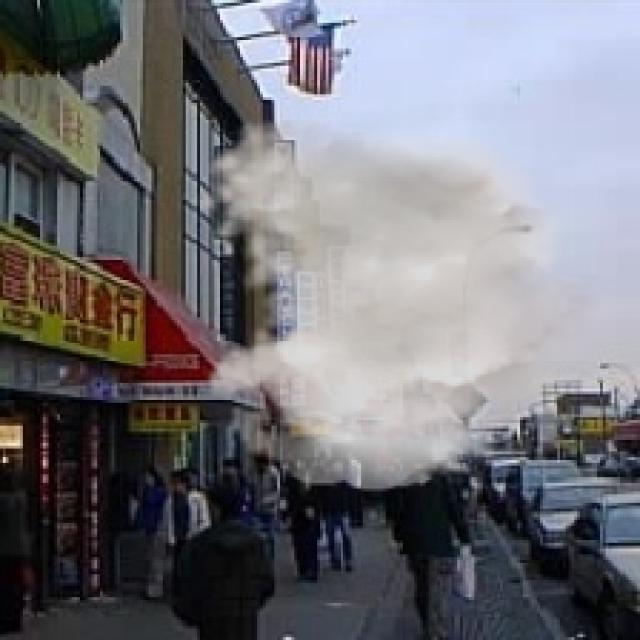Smoke: (195, 117, 620, 492)
